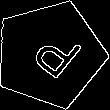P_SW: (18, 23, 81, 86)
